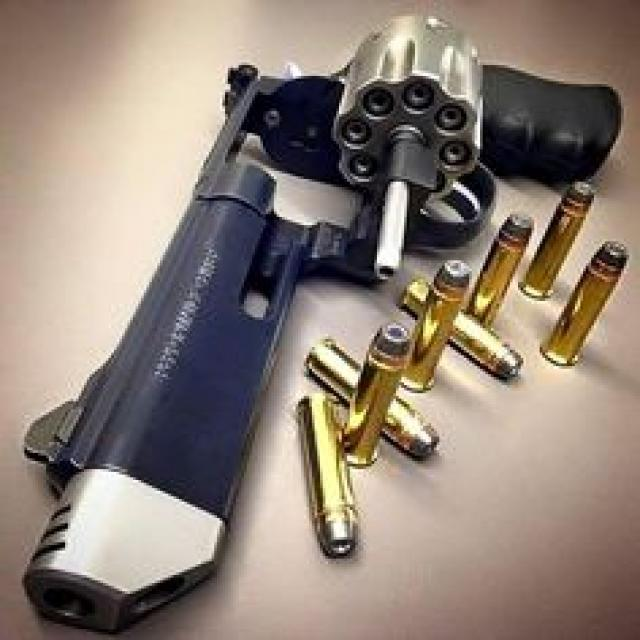revolver: (6, 13, 630, 626)
